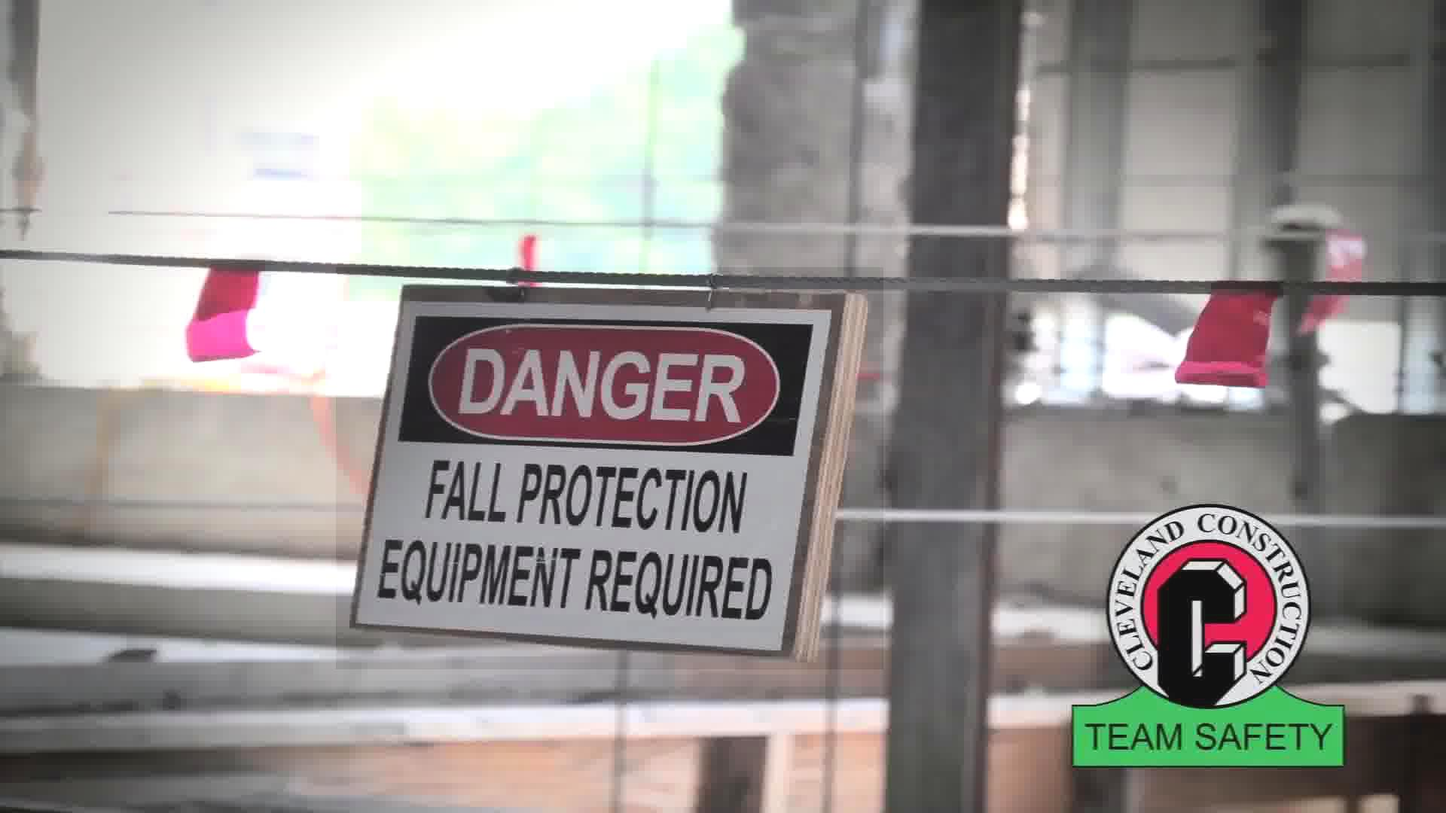safety_signage: (336, 267, 883, 669)
